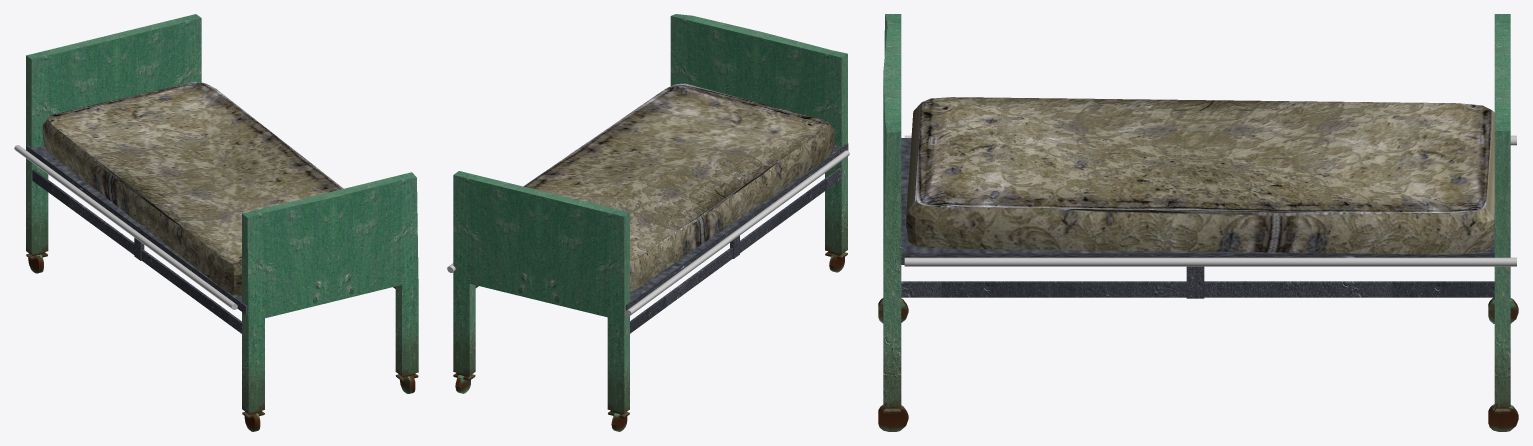
The model's file is Cama_Psiquiatría Sovietica.fbx.
The picture shows the model from 3 angles, left to right: view 1: azimuth 30°, elevation 25°; view 2: azimuth 150°, elevation 25°; view 3: azimuth 270°, elevation 25°; orthographic projection. The views are drawn at different scales.
Visible parts, largest first — view 1: rueda_cama.001; view 2: rueda_cama.001; view 3: rueda_cama.001.
Boxes of the visible parts, <box> form: rueda_cama.001: <box>14,14,418,431</box>; rueda_cama.001: <box>447,14,849,431</box>; rueda_cama.001: <box>878,14,1518,431</box>.
Size of the model in its own units: 175 by 198 by 377.
